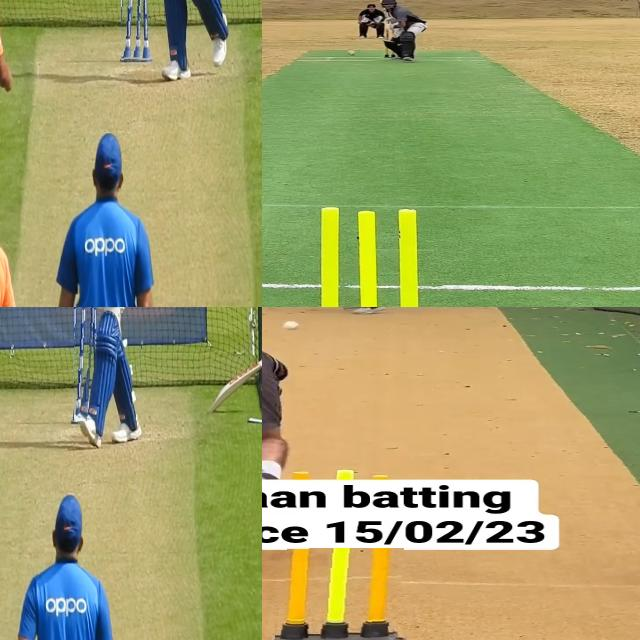Cricket ball: (282, 320, 300, 332), (346, 48, 360, 55)
Stumps: (300, 206, 445, 307), (275, 548, 404, 640), (73, 307, 96, 422), (121, 0, 148, 62)
